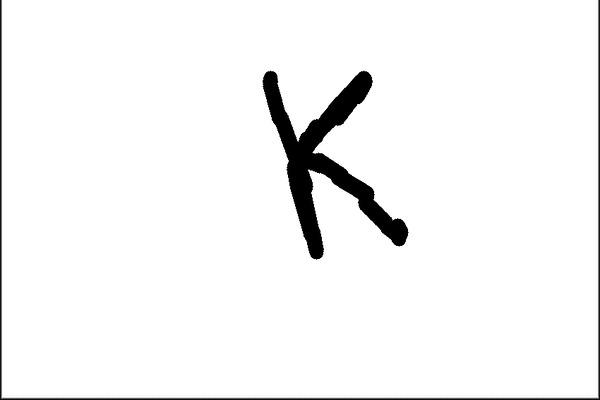K: (255, 59, 415, 262)
